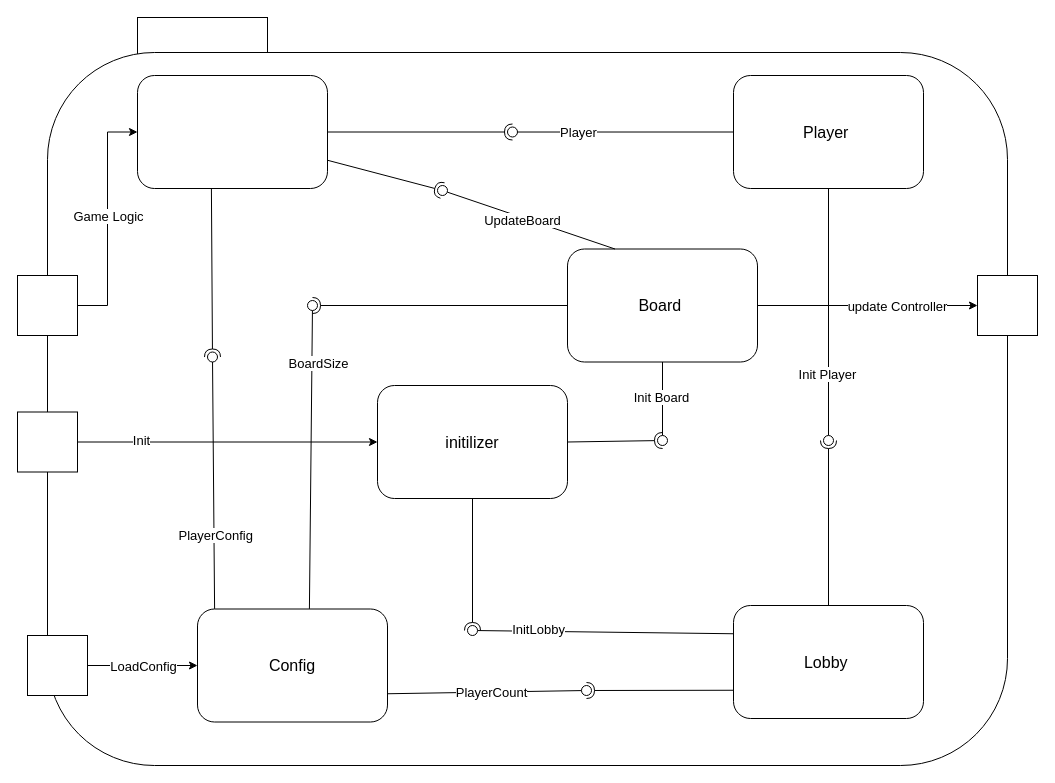
Image size: 1055x783. Some labels were removed from this diagram. Here are the shapes that lost their labels. From the top down, the centre of each, then its label:
At (x=202, y=37): "Model".
At (x=232, y=131): "Game Rules / logic".
